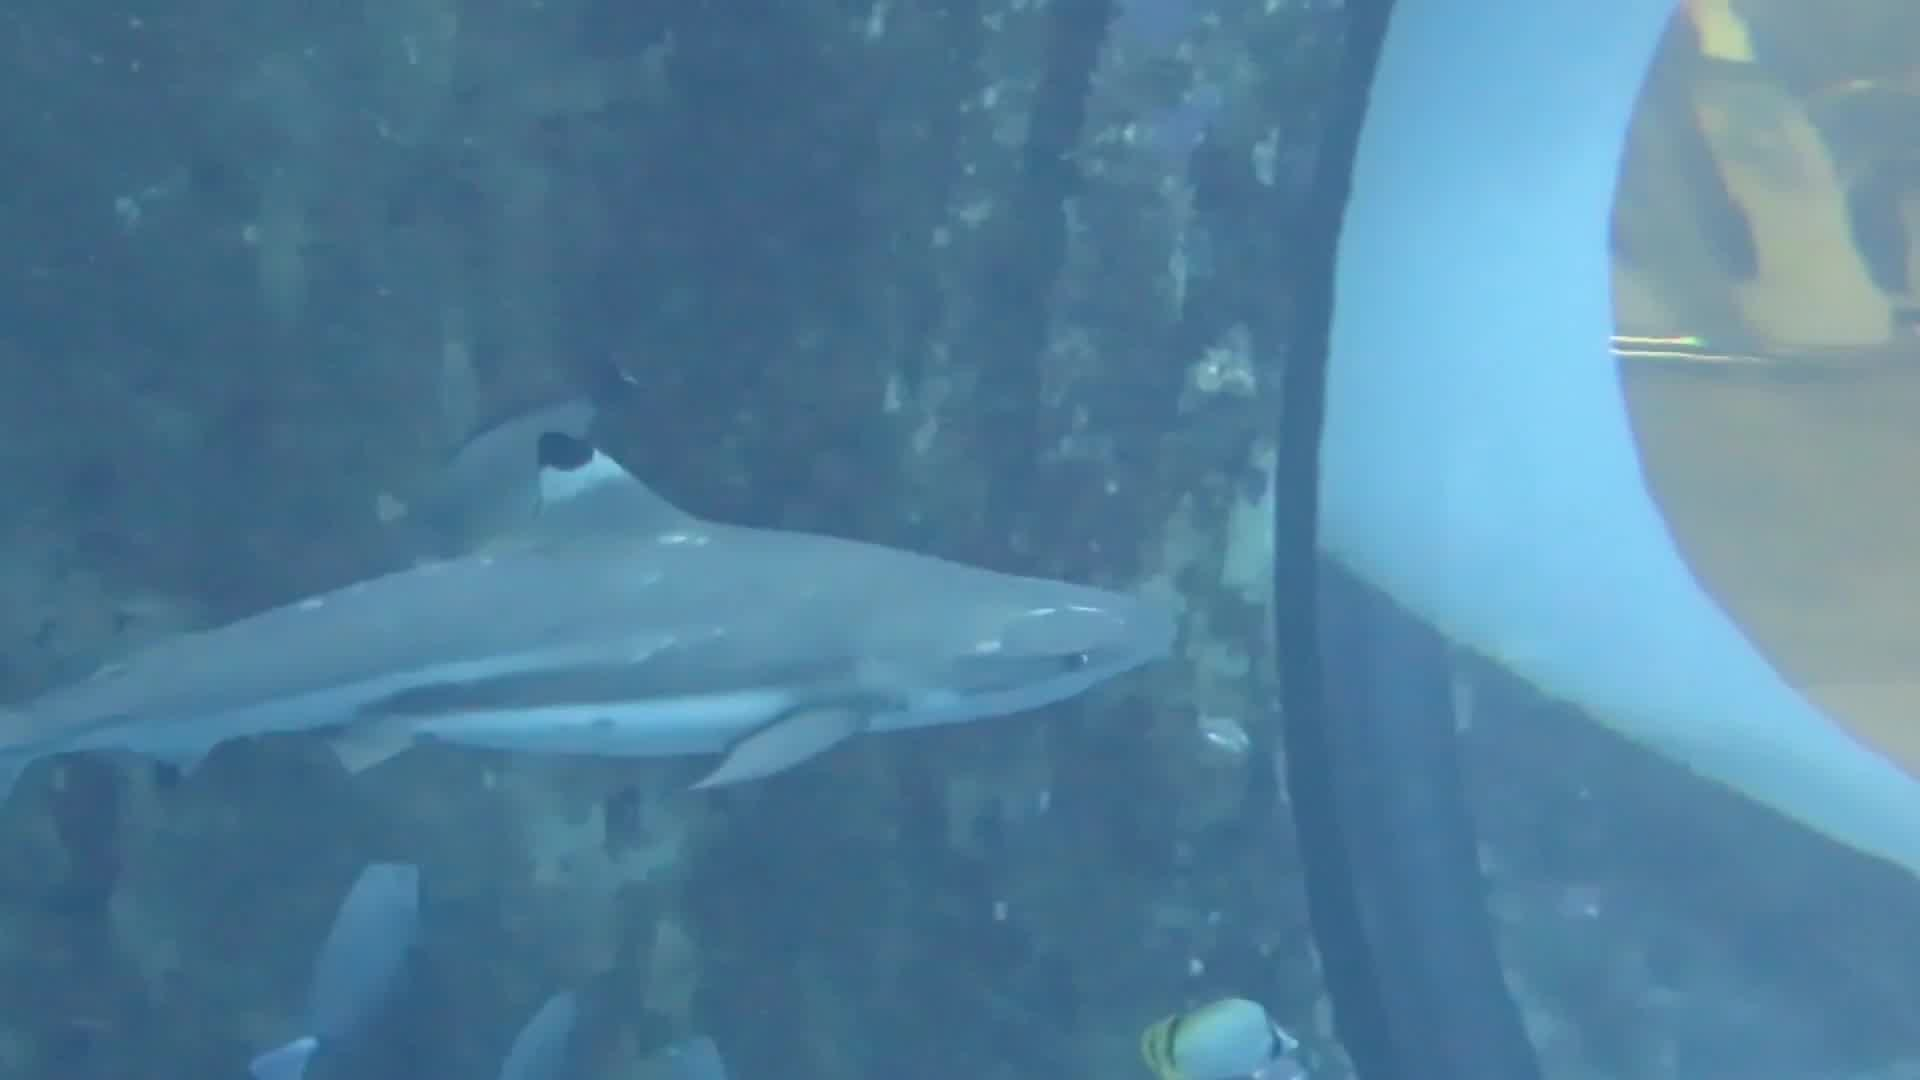Carcharhinus melanopterus: (1, 309, 1429, 897)
